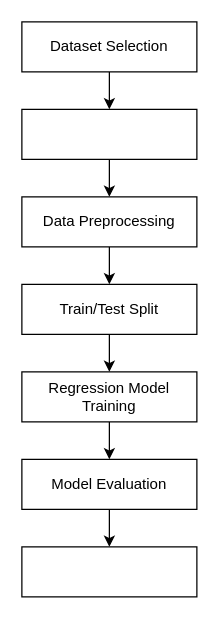
The diagram is 219 pixels wide and 619 high, and some of its shapes have lost their labels. Each missing label, with the centre of its shape:
"Data Loading" goes at (x=109, y=133).
"Results" goes at (x=109, y=571).
